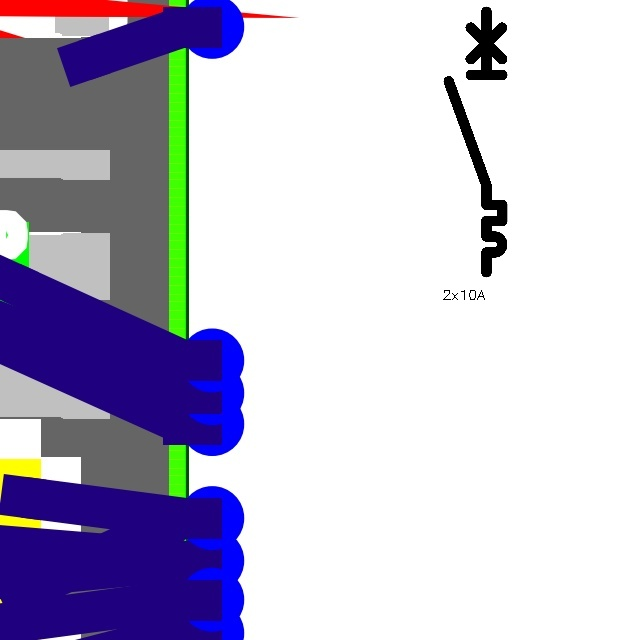interruptor_termomagnetico: (442, 5, 509, 279)
